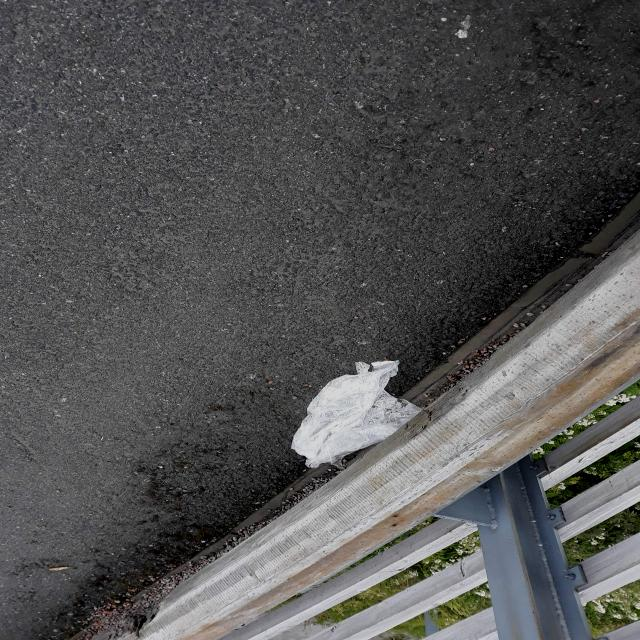Plastic film: (292, 360, 423, 469)
